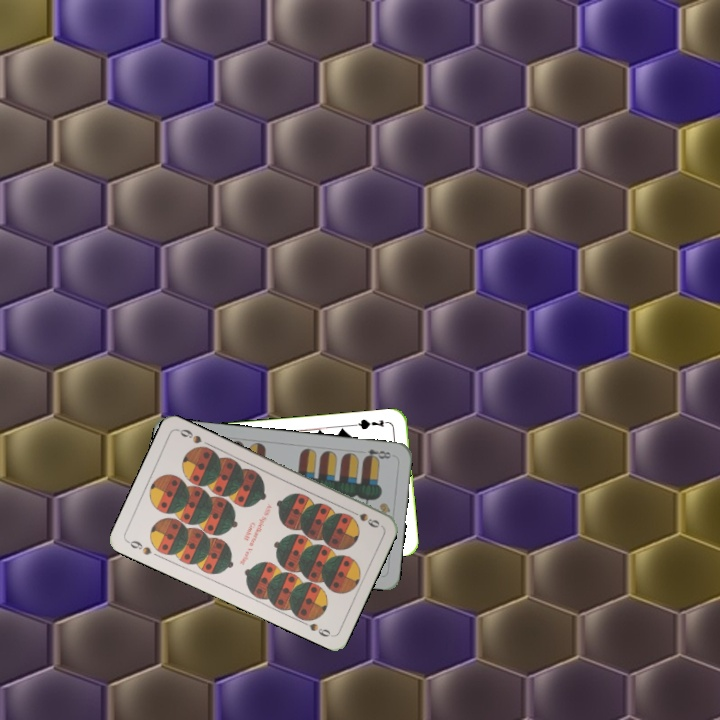E8: (360, 445, 396, 463)
G7: (352, 415, 392, 432)
S9: (345, 506, 382, 530), (123, 536, 154, 558)
